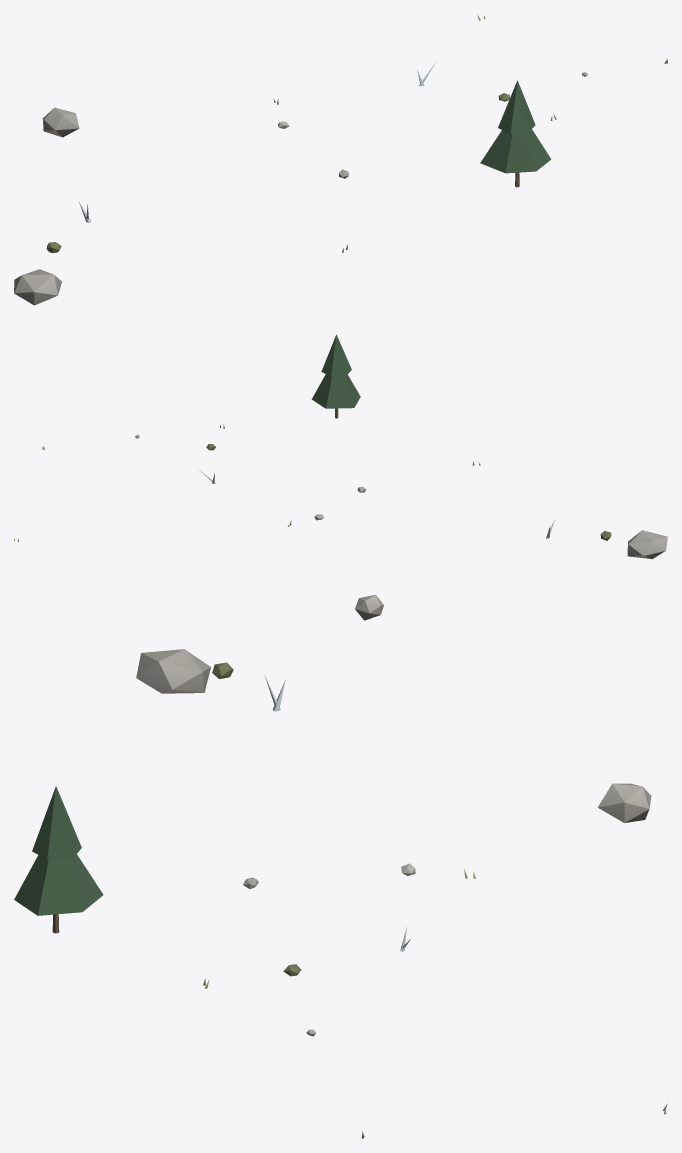
Rendered from coast_land_scatter_c11_24_lod1.glb.
3 views of the same model, one above another, from view 1: azimuth 30°, elevation 25°; view 2: azimuth 150°, elevation 25°; view 3: azimuth 270°, elevation 25° (orthographic). The views are drawn at different scales.
Parts seen in each view (by area): view 1: coast_land_scatter_c11_24_lod1; view 2: coast_land_scatter_c11_24_lod1; view 3: coast_land_scatter_c11_24_lod1.
Boxes of the visible parts, x1,y1,x2,y2 form: coast_land_scatter_c11_24_lod1: (14, 15, 667, 305); coast_land_scatter_c11_24_lod1: (14, 334, 667, 620); coast_land_scatter_c11_24_lod1: (14, 649, 667, 1138).
Size of the model in its own units: 81.88 by 15.86 by 46.58.
